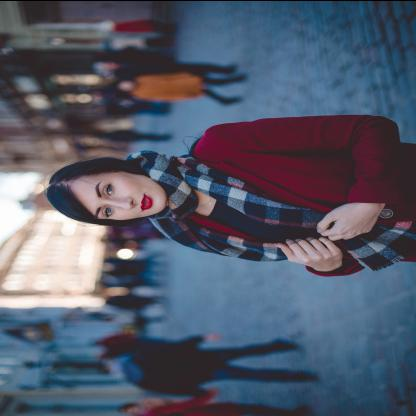Eye: (104, 182, 115, 196), (103, 205, 113, 217)
Mouth: (140, 194, 152, 210)
Nose: (111, 196, 135, 208)
